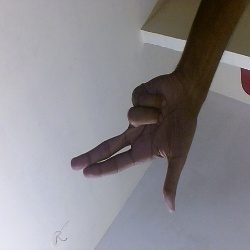hand: (53, 82, 212, 210)
